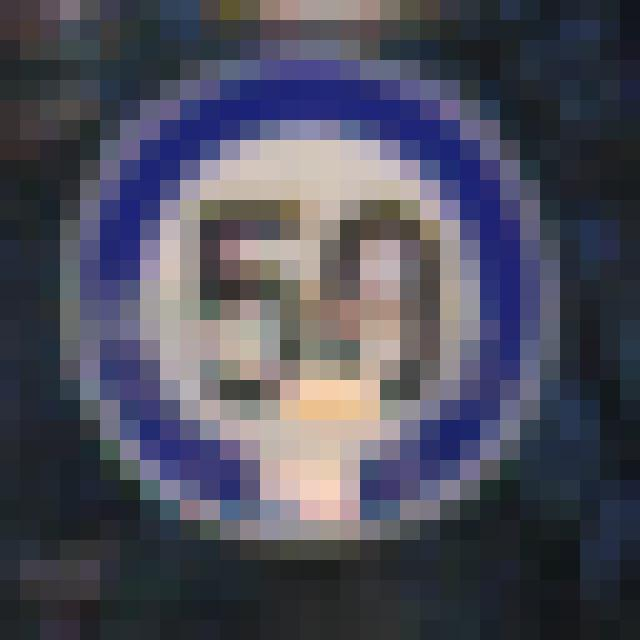SPEED LIMIT 50: (108, 90, 512, 520)
